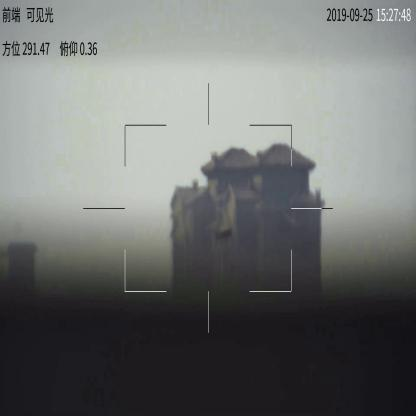uav: (214, 228, 231, 240)
